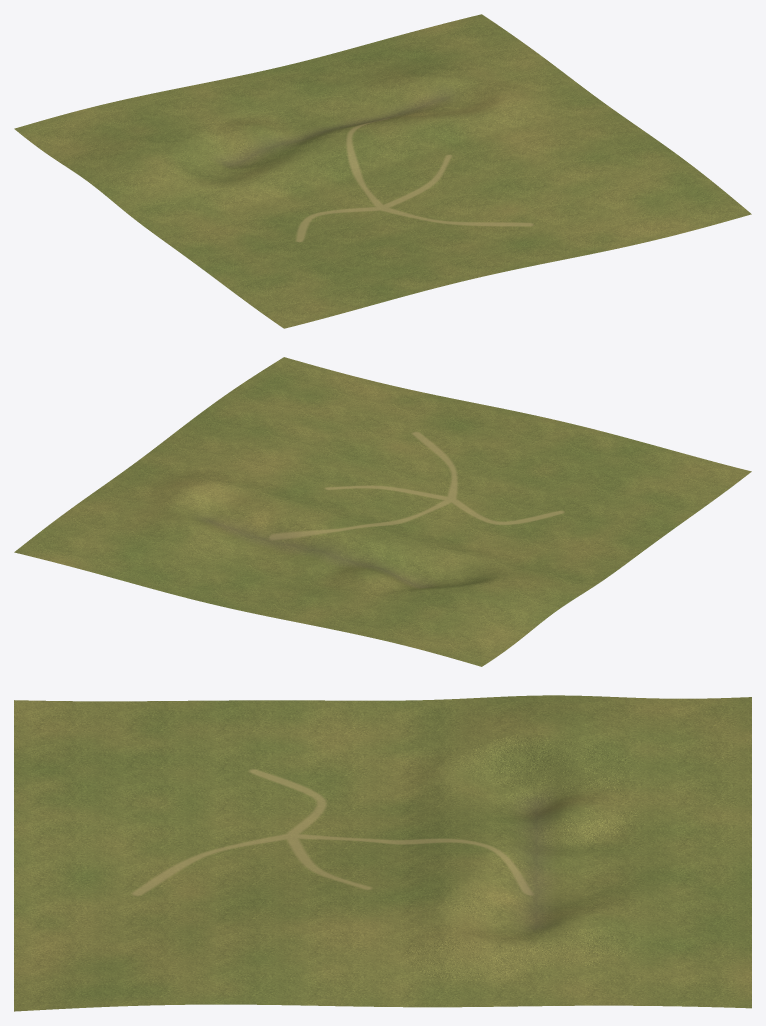
Rendered from general-ground-candidate.glb.
3 renders of one model, top to bottom at view 1: azimuth 30°, elevation 25°; view 2: azimuth 150°, elevation 25°; view 3: azimuth 270°, elevation 25°, orthographic. The views are drawn at different scales.
Parts seen in each view (by area): view 1: ZoneOne continuous prairie source; view 2: ZoneOne continuous prairie source; view 3: ZoneOne continuous prairie source.
Part boxes in pixels (box(x1,y1,x2,y2)): ZoneOne continuous prairie source: box(14, 14, 751, 328); ZoneOne continuous prairie source: box(14, 357, 751, 666); ZoneOne continuous prairie source: box(14, 695, 751, 1011).
Size of the model in its own units: 240 by 11.64 by 240.
Materials: 1 (1 with a texture image).
